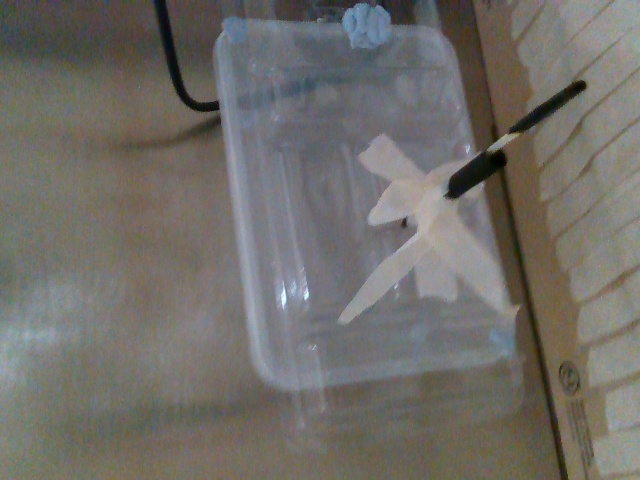test_strip: (485, 77, 586, 152)
